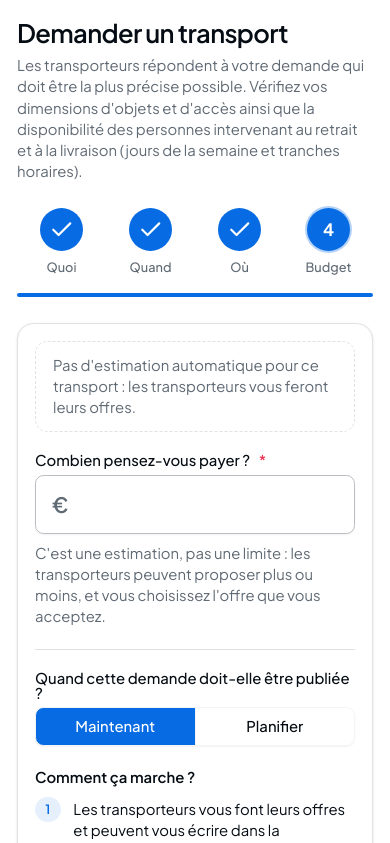
it: the Budget step › leaves « 40 » for « 040 », held as the text the box shows
Type "040" into the field labelled "Combien pensez-vous payer ?" at (195, 504), box [35,475,355,534]
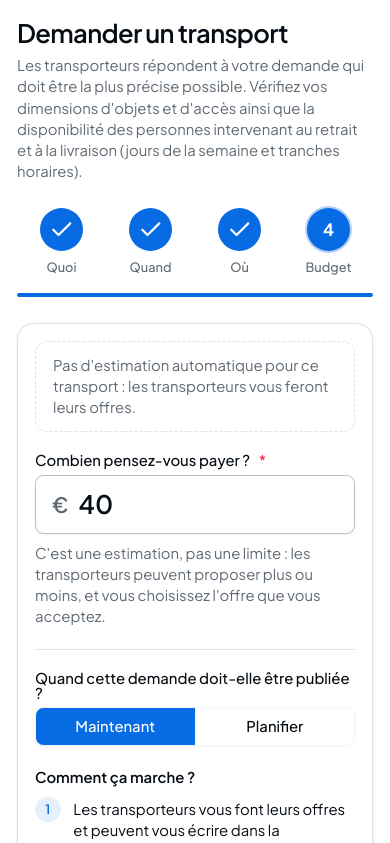
Check: the field labelled "Combien pensez-vous payer ?" holds "40", box [35,475,355,534]
